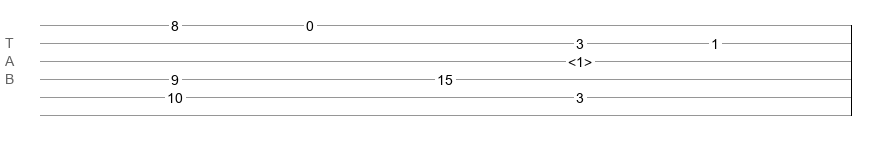0: (306, 18, 314, 28)
1: (711, 36, 719, 46)
10: (167, 90, 183, 100)
15: (437, 72, 453, 82)
3: (576, 36, 584, 46), (576, 90, 584, 100)
8: (171, 18, 179, 28)
9: (171, 72, 179, 82)
harmonic: (568, 54, 592, 64)
